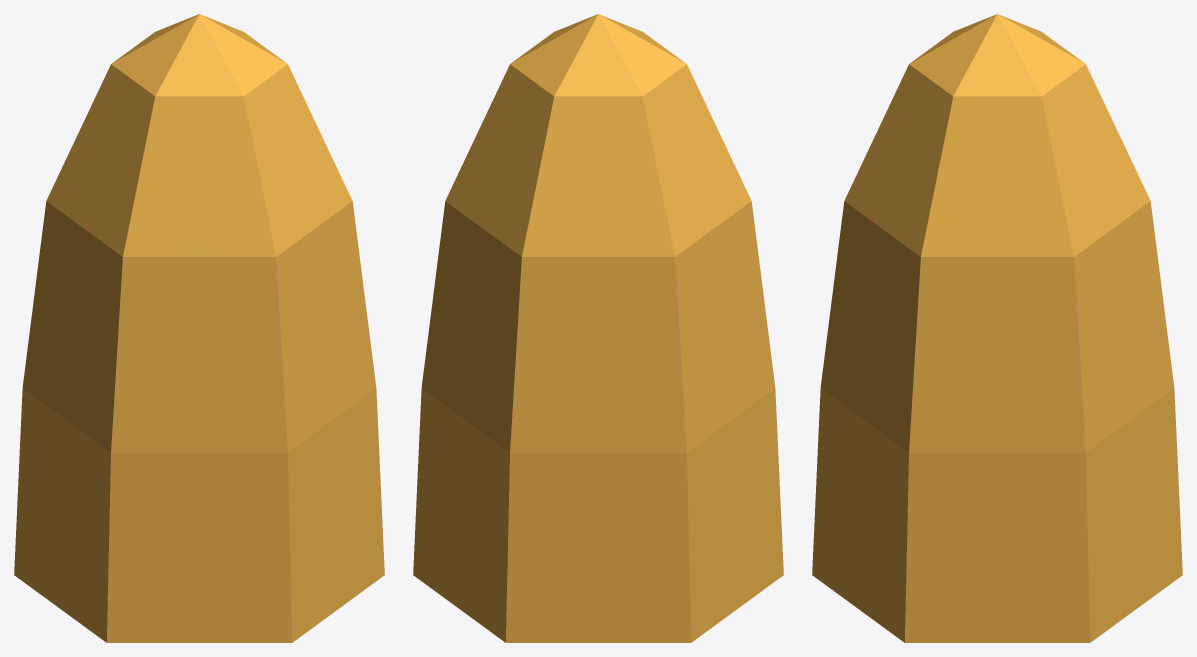
The model's file is Bullet.fbx.
3 views of the same model, side by side, from view 1: azimuth 30°, elevation 25°; view 2: azimuth 150°, elevation 25°; view 3: azimuth 270°, elevation 25° (orthographic).
Visible parts, largest first — view 1: Sphere; view 2: Sphere; view 3: Sphere.
Part boxes in pixels (<box>): Sphere: <box>14,14,384,642</box>; Sphere: <box>413,14,783,642</box>; Sphere: <box>812,14,1182,642</box>.
Size of the model in its own units: 54.45 by 105 by 62.87.
